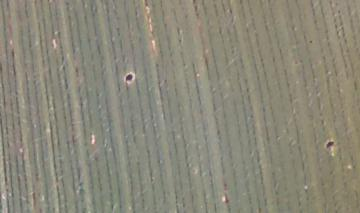tarspot: (324, 140, 336, 150), (124, 72, 134, 83), (185, 161, 191, 171), (115, 26, 121, 36), (307, 39, 313, 45), (191, 1, 197, 5)
